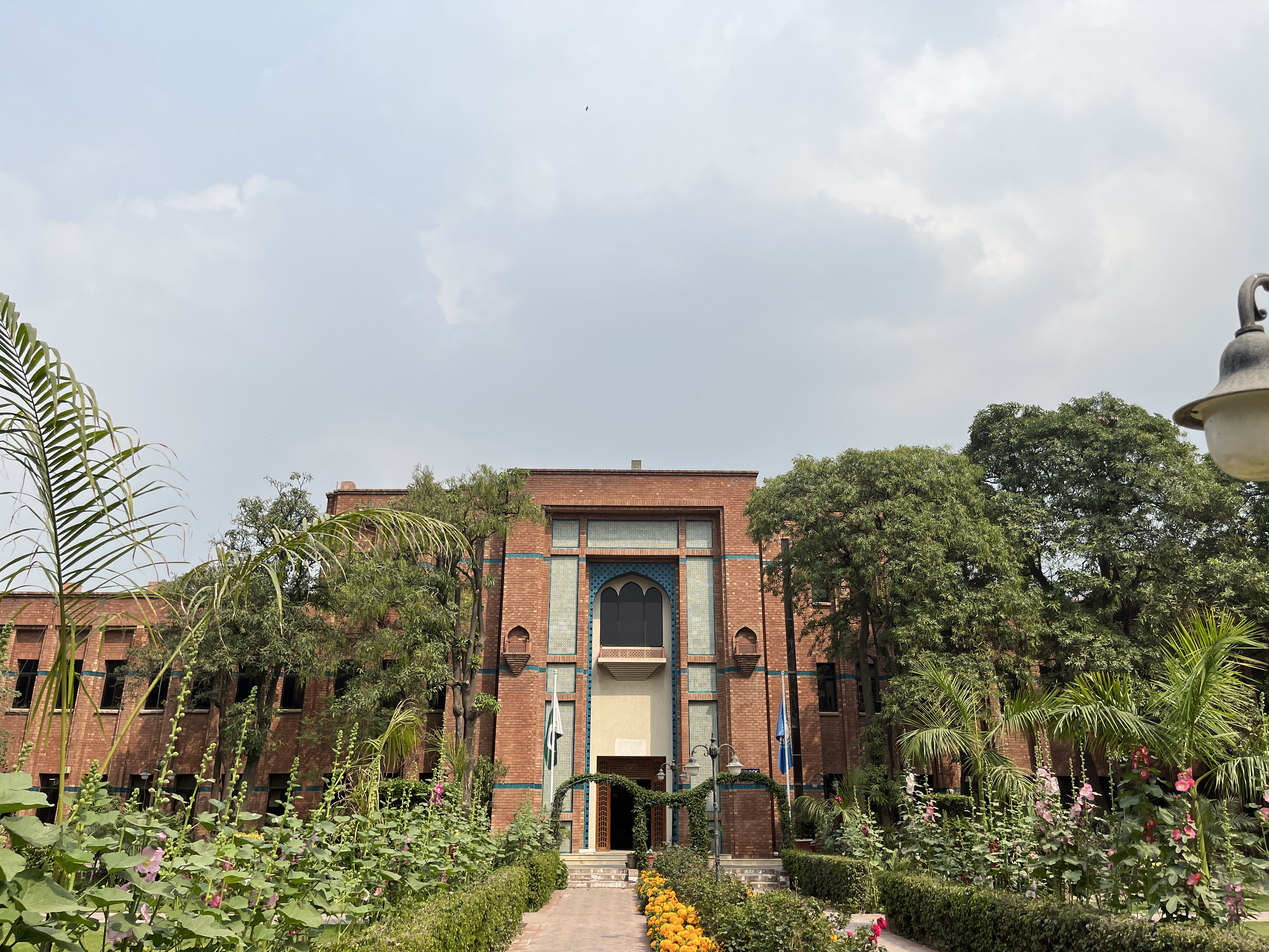Block A: (4, 462, 1269, 850)
